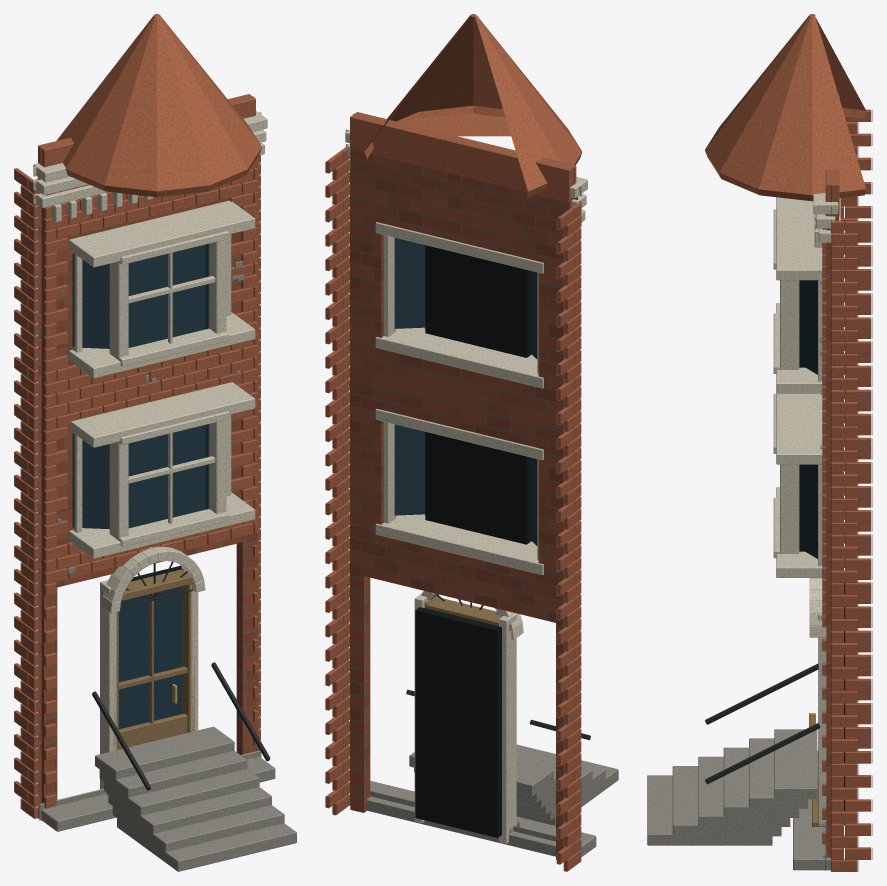
Rendered from VICT16_lod0.glb.
3 views of the same model, side by side, from view 1: azimuth 30°, elevation 25°; view 2: azimuth 150°, elevation 25°; view 3: azimuth 270°, elevation 25° (orthographic). The views are drawn at different scales.
Parts seen in each view (by area): view 1: VICT16_FRONT_LOD0; view 2: VICT16_FRONT_LOD0; view 3: VICT16_FRONT_LOD0.
Boxes of the visible parts, bbox=[...] form: VICT16_FRONT_LOD0: bbox=[14, 14, 296, 871]; VICT16_FRONT_LOD0: bbox=[325, 14, 618, 871]; VICT16_FRONT_LOD0: bbox=[647, 14, 872, 871].
Size of the model in its own units: 3.44 by 11.3 by 2.88.
13 materials, 10 textured.
